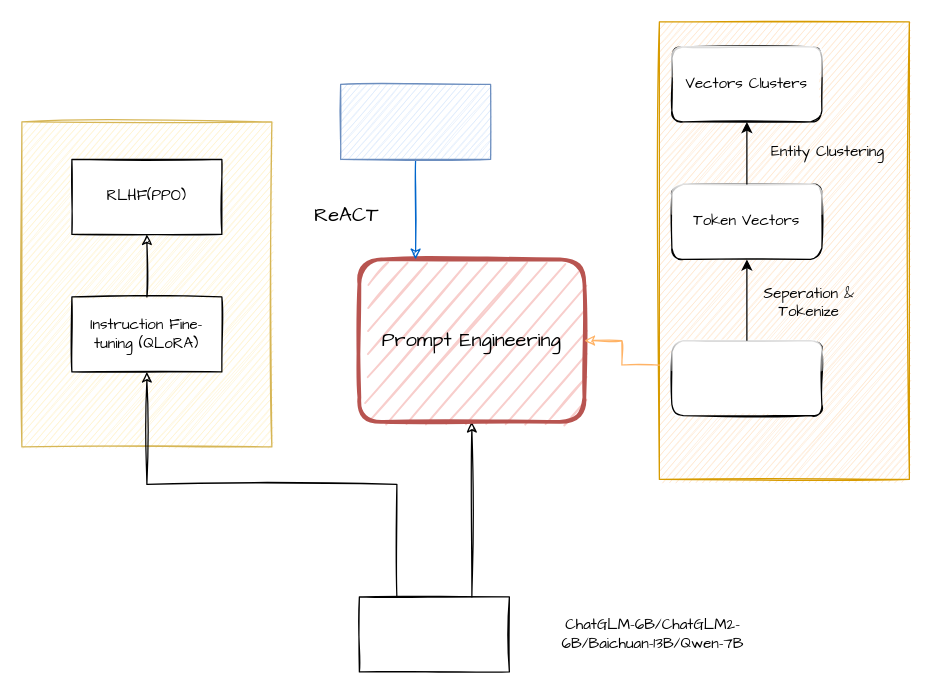
Some shapes in this 940 by 694 pixel diagram are drawn without their labels. The shapes that lost their labels are listed below. From the top down, each one's box as (x1, y1, x2, y2) in pixels, then its label:
(339, 83, 491, 159): APIs
(671, 339, 822, 416): Knowledge Base
(358, 596, 509, 672): LLMs
